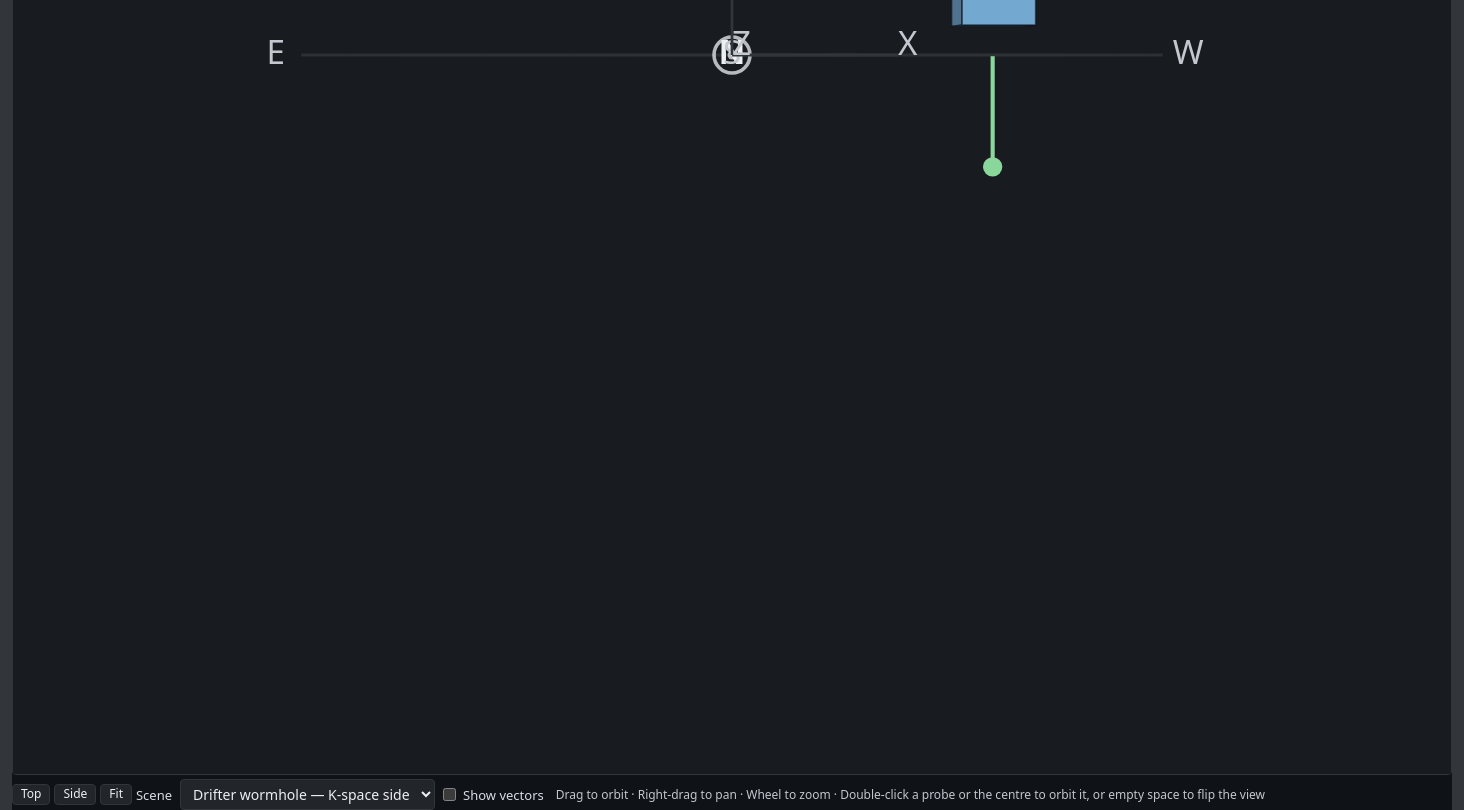
Scenario: range to a scene object › a probe inside the volume says so
The image size is (1464, 810).
(page scrolled)
Select "Drifter wormhole — K-space side" in the dropdown labelled "Scene": (308,794) [180, 779, 435, 809]
(page scrolled)
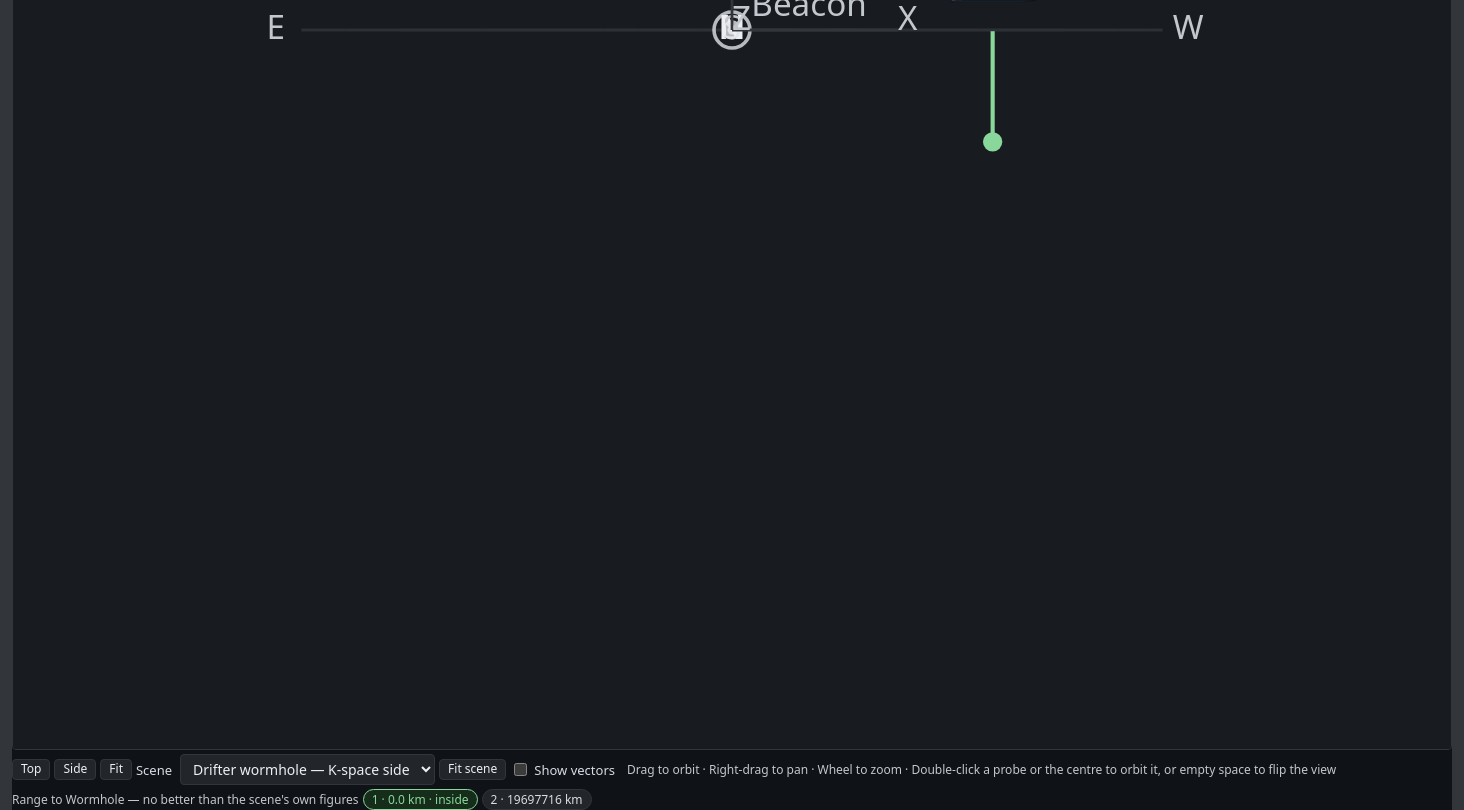
expect the element with class "chip" does not show "inside": met
expect the text with class "chip" reads "1 · 0.0 km · inside": met, box [372, 791, 469, 808]
